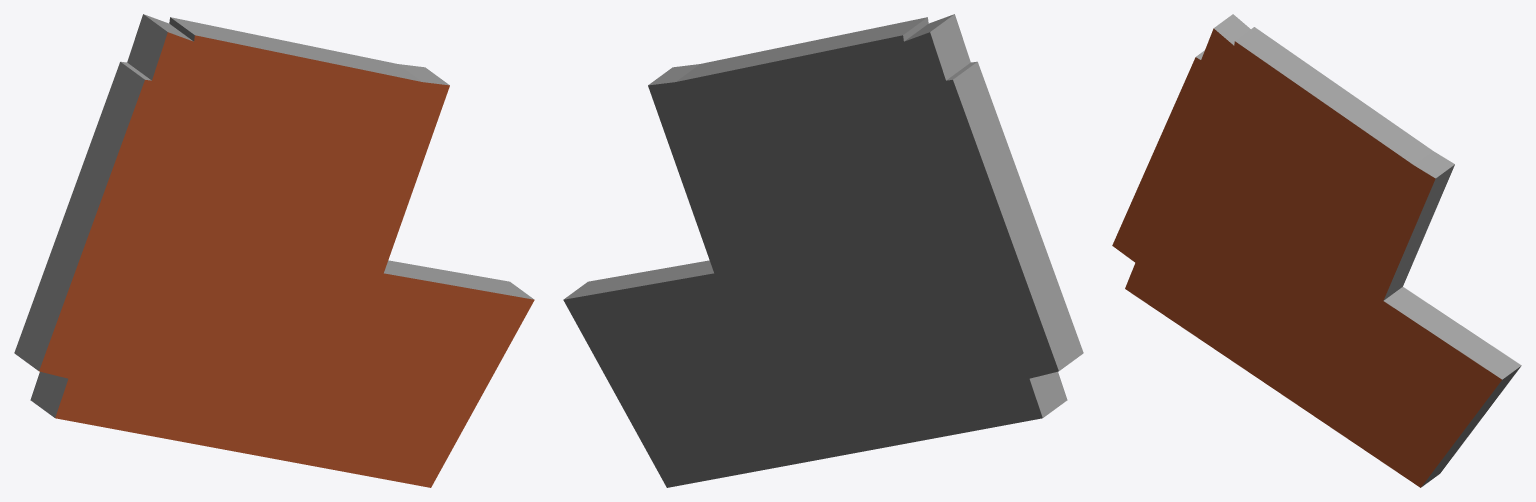
The model's file is construction_4146_assumed_A_Casa_h6m.obj.
The picture shows the model from 3 angles, left to right: view 1: azimuth 30°, elevation 25°; view 2: azimuth 150°, elevation 25°; view 3: azimuth 330°, elevation 25°; orthographic projection. The views are drawn at different scales.
Visible parts, largest first — view 1: construction_4146_assumed_A_Casa; view 2: construction_4146_assumed_A_Casa; view 3: construction_4146_assumed_A_Casa.
Boxes of the visible parts, box(x1,y1,x2,y2) form: construction_4146_assumed_A_Casa: box(14, 14, 534, 487); construction_4146_assumed_A_Casa: box(563, 14, 1083, 487); construction_4146_assumed_A_Casa: box(1112, 14, 1521, 487).
Bounding box in the file's own units: 69.29 × 69.45 × 6.
